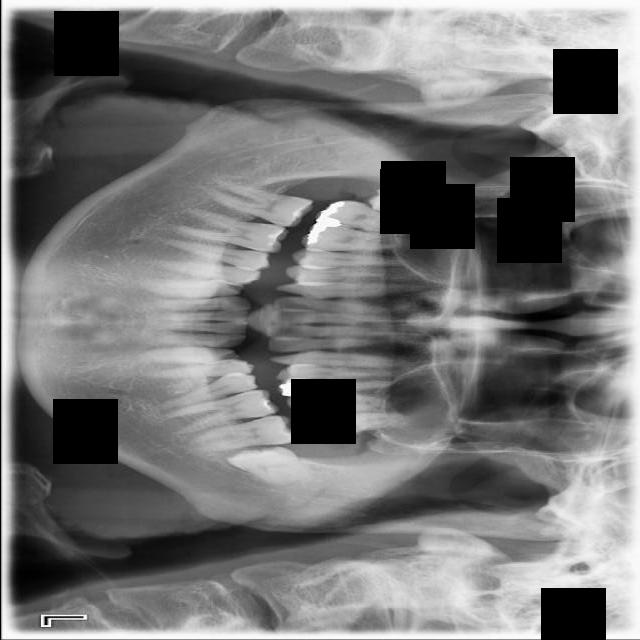3M ESPE Implant: (363, 185, 456, 216)
52: (300, 221, 351, 254), (312, 199, 370, 227), (287, 395, 331, 421), (276, 378, 319, 396)
73: (49, 602, 77, 611)
BioHorizons Implant: (301, 404, 405, 447)
Biomet 3i Implant: (225, 445, 304, 485)
Blue Sky Bio Implant: (190, 412, 300, 455)
Caries: (312, 194, 419, 239)
Implant: (205, 178, 314, 232)
